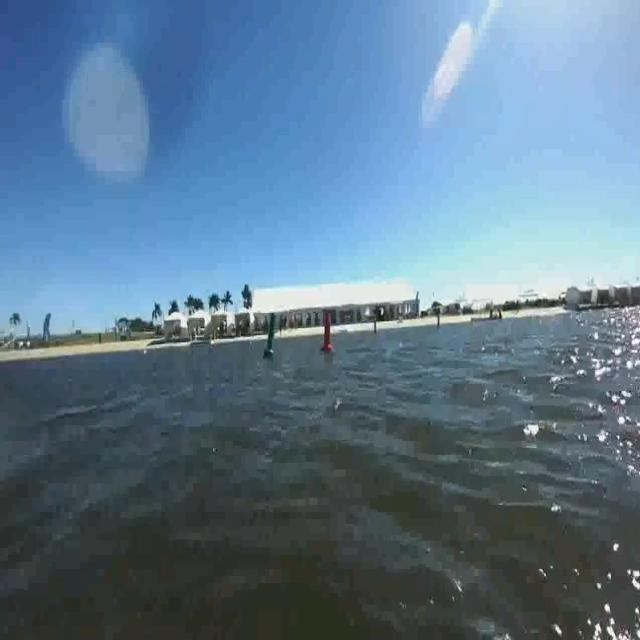green-column-buoy: (257, 300, 281, 363)
red-column-buoy: (317, 303, 341, 362)
